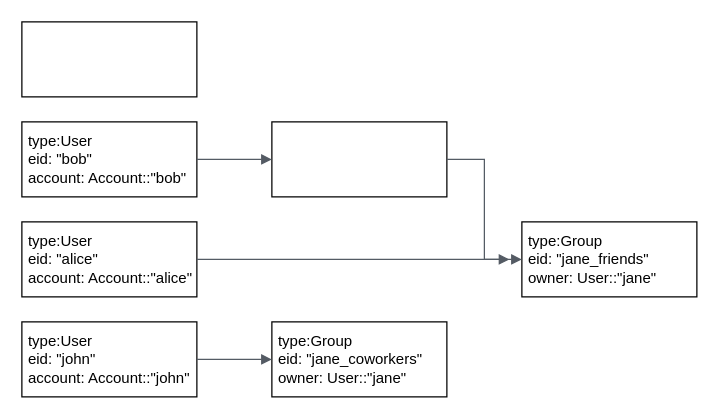
This 719x419 diagram has some shape labels left out. The shapes that lost their labels are listed below. From the top down, each one's centre as x and y in pixels, then its label:
[109,59]: type:User eid: "jane" account: Account::"jane"
[359,159]: type:Group eid: "jane_family" owner: User::"jane"
